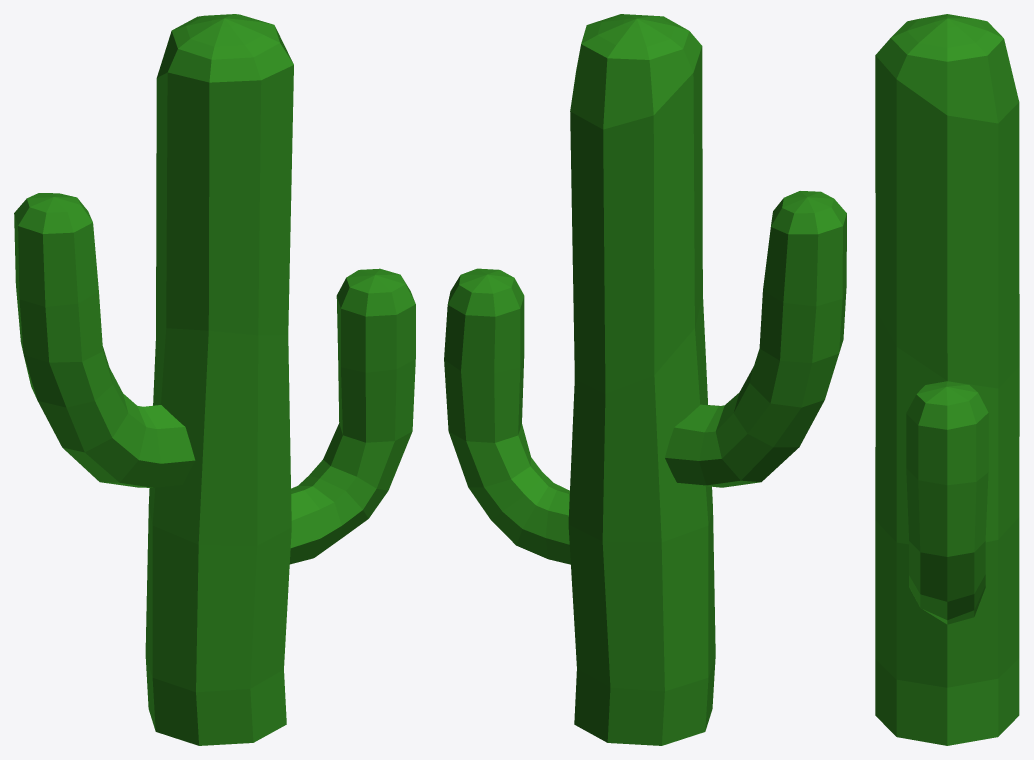
File: cactus.glb
3 views of the same model, side by side, from view 1: azimuth 30°, elevation 25°; view 2: azimuth 150°, elevation 25°; view 3: azimuth 270°, elevation 25° (orthographic).
Visible parts, largest first — view 1: Circle, Circle.001, Circle.002; view 2: Circle, Circle.001, Circle.002; view 3: Circle, Circle.002.
Boxes of the visible parts, <box> form: Circle: <box>145,14,293,745</box>; Circle.001: <box>14,193,195,487</box>; Circle.002: <box>289,268,415,564</box>; Circle: <box>568,14,715,745</box>; Circle.001: <box>665,191,846,487</box>; Circle.002: <box>444,268,570,564</box>; Circle: <box>875,14,1019,745</box>; Circle.002: <box>906,381,988,624</box>.
Bounding box in the file's own units: 6.35 × 10.74 × 2.
